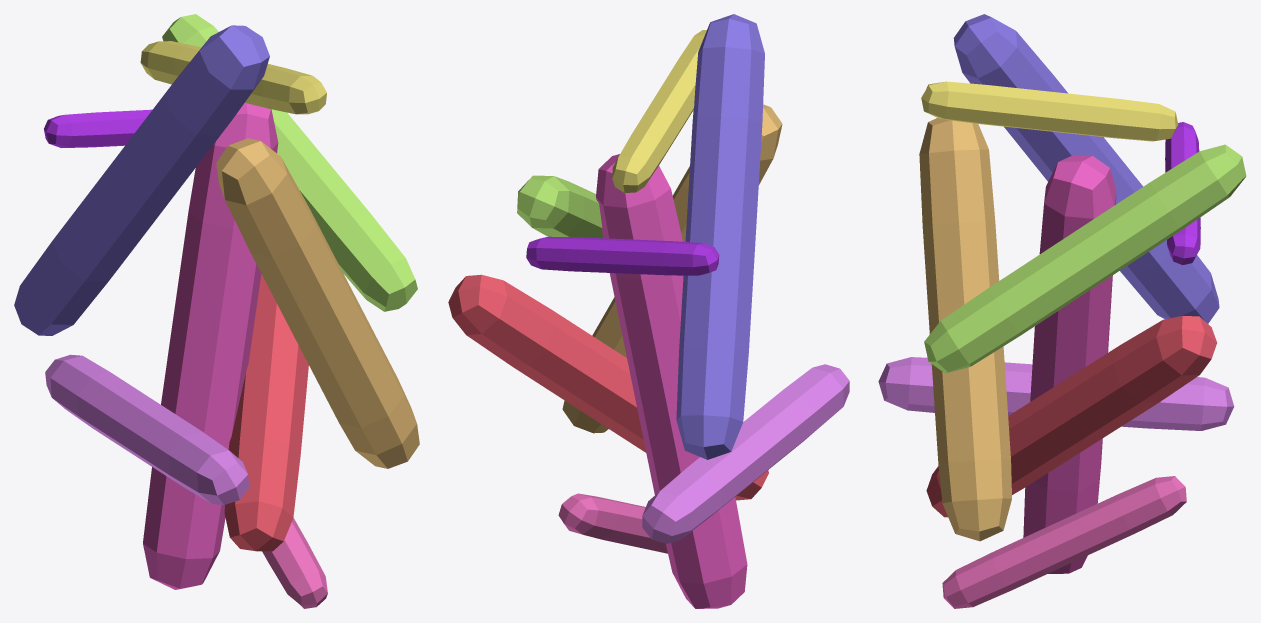
The model's file is MikroPlastik.fbx.
3 views of the same model, side by side, from view 1: azimuth 30°, elevation 25°; view 2: azimuth 150°, elevation 25°; view 3: azimuth 270°, elevation 25° (orthographic). The views are drawn at different scales.
Visible parts, largest first — view 1: Cube.008; view 2: Cube.008; view 3: Cube.008.
Part boxes in pixels (bbox=[...]): Cube.008: bbox=[14, 14, 419, 608]; Cube.008: bbox=[448, 14, 849, 608]; Cube.008: bbox=[878, 14, 1246, 608].
Bounding box in the file's own units: 180 × 340 × 202.
